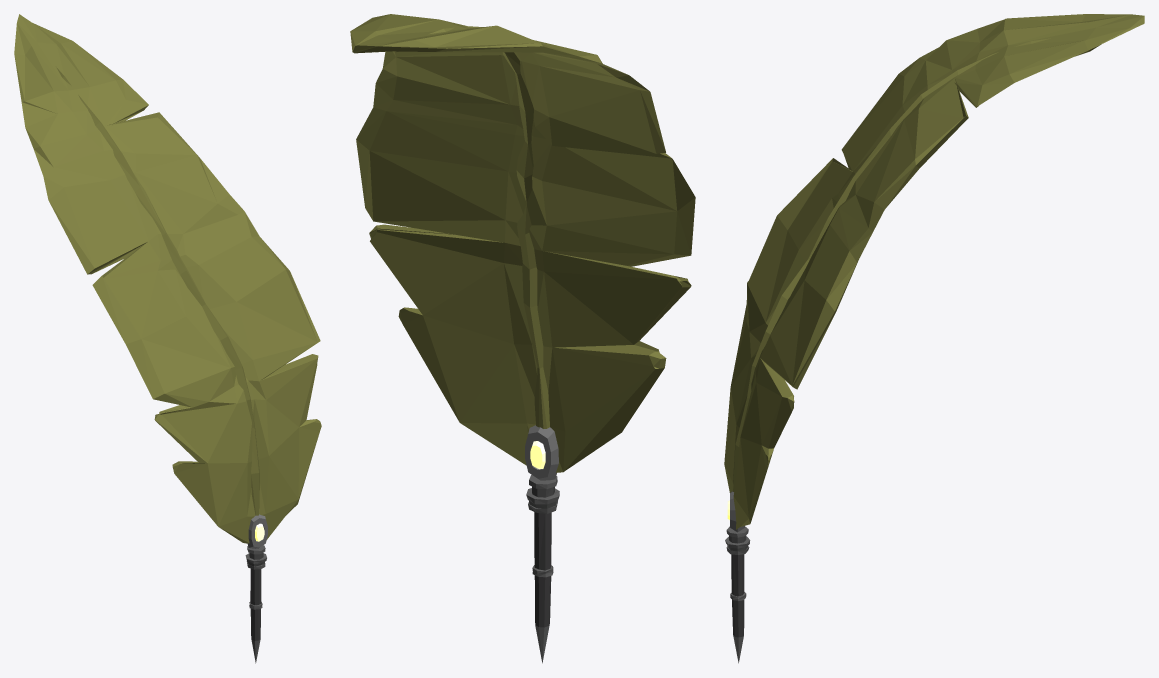
Rendered from SFHW_Feather.fbx.
3 views of the same model, side by side, from view 1: azimuth 30°, elevation 25°; view 2: azimuth 150°, elevation 25°; view 3: azimuth 270°, elevation 25° (orthographic). The views are drawn at different scales.
Parts seen in each view (by area): view 1: SFHW_Feather; view 2: SFHW_Feather; view 3: SFHW_Feather.
Boxes of the visible parts, x1=… form: SFHW_Feather: x1=14, y1=14, x2=321, y2=663; SFHW_Feather: x1=350, y1=14, x2=695, y2=663; SFHW_Feather: x1=724, y1=14, x2=1144, y2=663.
Size of the model in its own units: 15.9 by 35.91 by 22.26.
